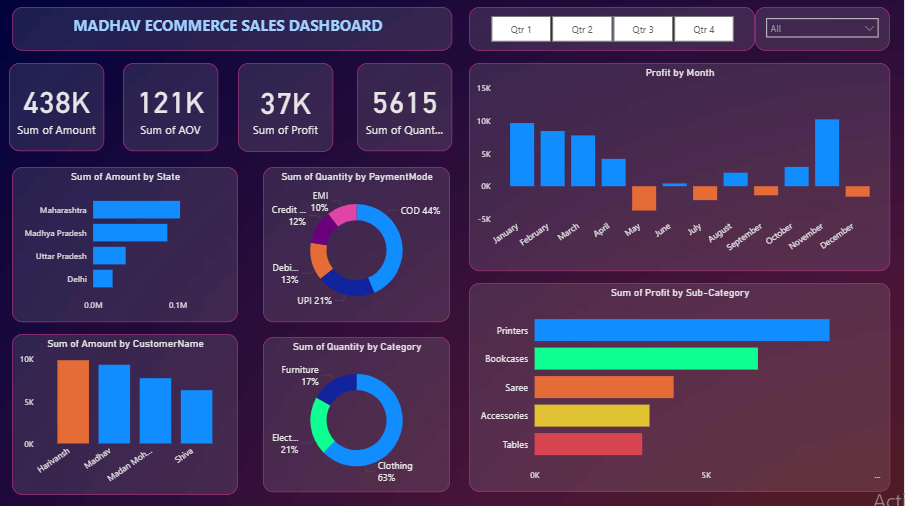

The page's visual inventory and layout, read from the dashboard file:
{"tool":"powerbi","page":{"name":"Page 1","canvas":[1280,720],"ordinal":0},"visuals":[{"type":"textbox","box":[17,11.3,623.6,62.4],"z":1},{"type":"columnChart","title":"Profit by Month","fields":{"Category":["Orders.Order Date.Variation.Date Hierarchy.Month"],"Y":["Details.Profit"]},"box":[664.7,90.7,596.7,294.8],"z":2},{"type":"barChart","fields":{"Category":["Details.Sub-Category"],"Y":["Details.Profit"]},"box":[664.7,402.5,596.7,296.2],"z":3},{"type":"donutChart","fields":{"Category":["Details.Category"],"Y":["Details.Quantity"]},"box":[372.8,479.1,265,219.7],"z":4},{"type":"donutChart","fields":{"Y":["Details.Quantity"],"Category":["Details.PaymentMode"]},"box":[372.8,238.1,265,219.7],"z":5},{"type":"card","fields":{"Values":["Details.Amount"]},"box":[12.8,90.7,134.6,124.7],"z":6},{"type":"card","fields":{"Values":["Details.Quantity"]},"box":[506,90.7,134.6,124.7],"z":7},{"type":"card","fields":{"Values":["Details.Profit"]},"box":[337.3,90.7,134.6,126.1],"z":8},{"type":"card","fields":{"Values":["Details.AOV"]},"box":[174.3,90.7,134.6,124.7],"z":9},{"type":"barChart","fields":{"Category":["Orders.State"],"Y":["Details.Amount"]},"box":[17,238.1,320.3,219.7],"z":10},{"type":"columnChart","fields":{"Category":["Orders.CustomerName"],"Y":["Details.Amount"]},"box":[17,474.8,320.3,228.2],"z":11},{"type":"slicer","fields":{"Values":["Orders.Order Date.Variation.Date Hierarchy.Quarter"]},"box":[664.7,11.3,405.4,62.4],"z":12},{"type":"slicer","fields":{"Values":["Orders.State"]},"box":[1070.1,11.3,191.3,62.4],"z":13}]}

Visuals, with their boxes in screenshot pixels (x1, y1, x2, y2), scaled from the page's 1280x720 canvas onto the 905x506 screenshot:
textbox: 12 8 453 52
"Profit by Month" columnChart: 470 64 892 271
barChart - Details.Sub-Category x Details.Profit: 470 283 892 491
donutChart - Details.Category x Details.Quantity: 264 337 451 491
donutChart - Details.Quantity x Details.PaymentMode: 264 167 451 322
card - Details.Amount: 9 64 104 151
card - Details.Quantity: 358 64 453 151
card - Details.Profit: 238 64 334 152
card - Details.AOV: 123 64 218 151
barChart - Orders.State x Details.Amount: 12 167 238 322
columnChart - Orders.CustomerName x Details.Amount: 12 334 238 494
slicer - Orders.Order Date.Variation.Date Hierarchy.Quarter: 470 8 757 52
slicer - Orders.State: 757 8 892 52
